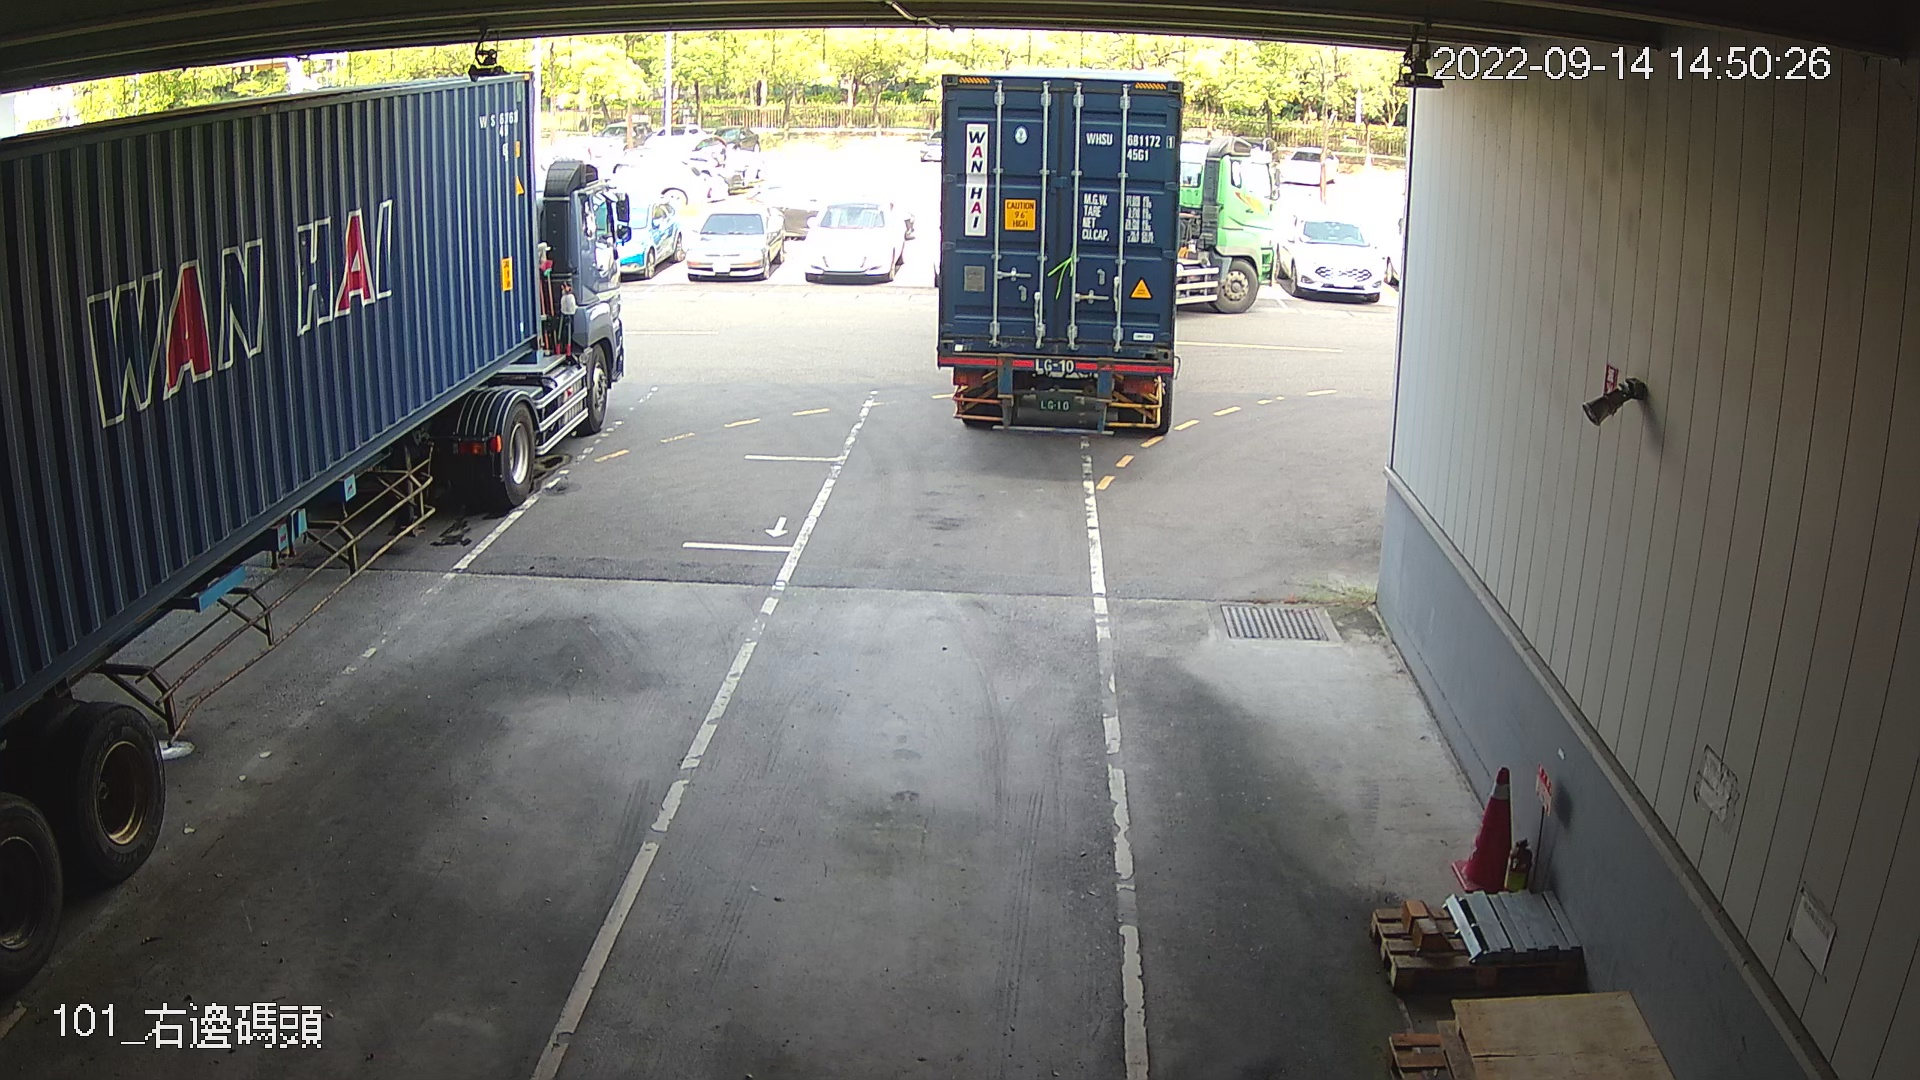container: (1081, 124, 1178, 169)
